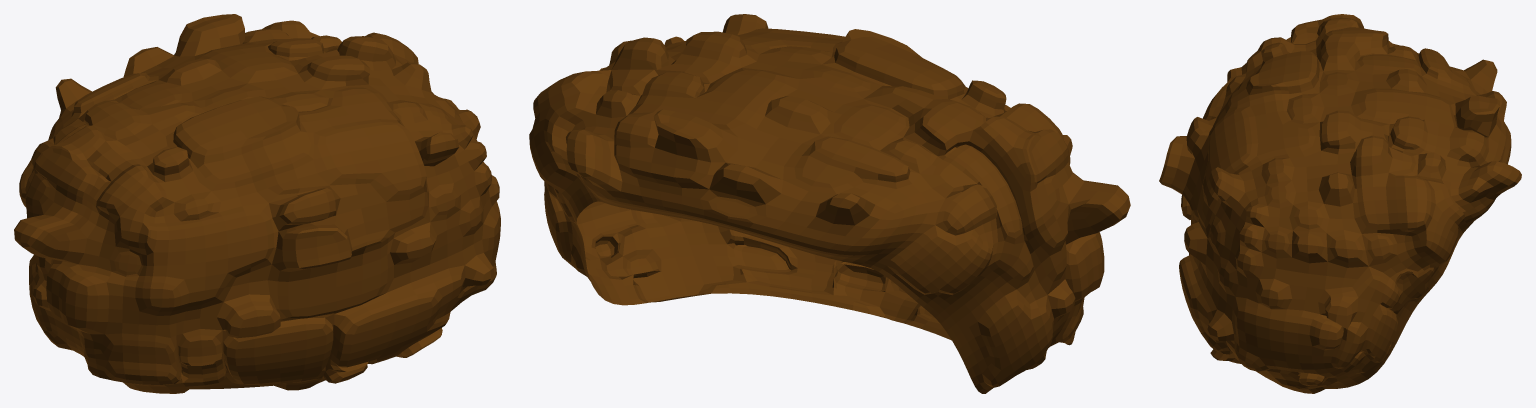
Rendered from hair.glb.
3 renders of one model, left to right at view 1: azimuth 30°, elevation 25°; view 2: azimuth 150°, elevation 25°; view 3: azimuth 270°, elevation 25°, orthographic. The views are drawn at different scales.
Visible parts, largest first — view 1: Cube.005; view 2: Cube.005; view 3: Cube.005.
Part boxes in pixels (bbox=[...]): Cube.005: bbox=[14, 14, 500, 393]; Cube.005: bbox=[529, 14, 1130, 393]; Cube.005: bbox=[1159, 14, 1521, 393].
Size of the model in its own units: 1.1 by 0.5739 by 0.7569.
